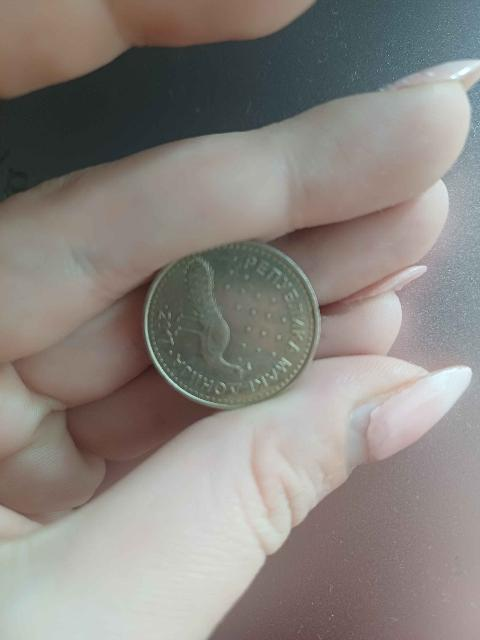coin: (145, 242, 320, 408)
